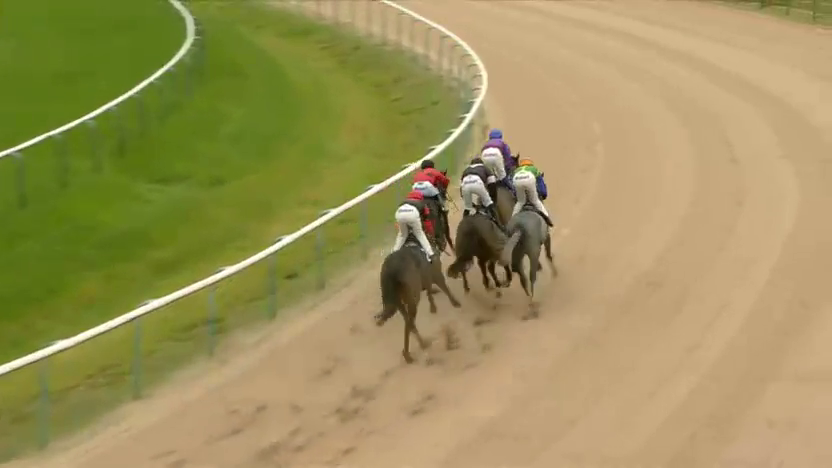jockey: (391, 192, 433, 259), (457, 157, 490, 229), (513, 160, 545, 223), (411, 157, 450, 208), (482, 129, 508, 186)
